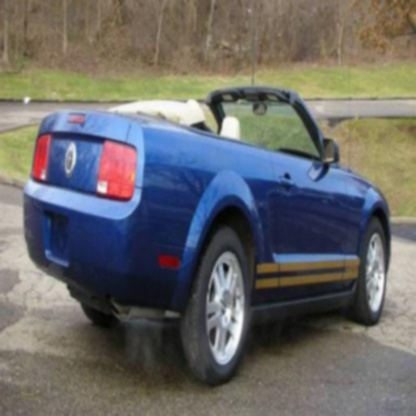Vehicle: (23, 82, 392, 389)
